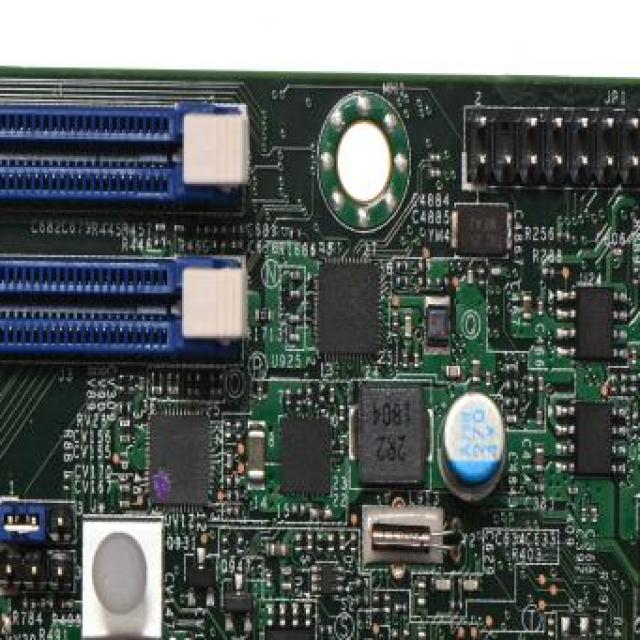IC: (148, 413, 211, 508), (317, 262, 380, 356), (280, 415, 334, 496), (574, 285, 616, 363), (572, 402, 614, 479), (263, 625, 313, 640)
capacitor: (441, 390, 509, 492), (456, 203, 509, 258), (246, 428, 266, 484), (522, 293, 534, 322), (535, 445, 546, 474), (471, 356, 482, 384), (270, 542, 288, 558), (444, 364, 462, 380), (417, 582, 427, 608), (403, 315, 413, 341), (464, 578, 481, 593), (436, 578, 452, 593), (638, 501, 640, 619), (118, 418, 132, 431), (591, 506, 599, 526), (188, 386, 201, 398), (289, 289, 302, 301), (154, 223, 167, 235), (118, 499, 132, 510), (225, 421, 233, 440), (535, 409, 543, 428), (392, 312, 400, 331), (467, 267, 475, 286), (257, 384, 265, 402), (118, 433, 130, 445), (505, 413, 517, 425), (289, 314, 301, 326), (233, 223, 245, 235), (430, 152, 442, 164), (150, 387, 163, 398), (210, 387, 223, 398), (289, 332, 302, 343), (265, 572, 272, 592), (537, 298, 544, 318), (340, 403, 347, 422), (338, 439, 345, 458), (486, 369, 493, 388), (280, 565, 292, 576), (280, 582, 292, 593), (533, 482, 544, 494), (118, 484, 130, 495), (167, 387, 179, 398), (289, 270, 301, 281), (231, 238, 242, 250), (174, 223, 186, 234), (430, 169, 442, 180), (567, 486, 579, 497), (612, 248, 624, 259), (225, 452, 232, 470), (139, 374, 146, 392), (328, 386, 335, 404), (539, 376, 546, 394), (413, 351, 420, 369), (492, 266, 503, 277), (582, 506, 588, 526), (402, 353, 409, 370), (631, 349, 638, 366), (306, 533, 312, 552), (340, 535, 346, 552), (416, 630, 426, 640), (182, 634, 191, 640), (167, 636, 176, 640)
diode: (319, 563, 335, 600), (560, 634, 590, 640)
inductor: (358, 383, 427, 486)
resistor: (255, 308, 272, 324), (236, 536, 245, 556), (632, 411, 640, 433), (315, 533, 324, 552), (221, 537, 230, 556), (319, 383, 328, 402), (118, 374, 127, 393), (214, 223, 227, 236), (197, 223, 210, 236), (118, 404, 132, 416), (542, 266, 556, 278), (632, 266, 640, 286), (295, 533, 303, 553), (285, 388, 293, 408), (154, 238, 167, 250), (214, 238, 227, 250), (227, 505, 240, 517), (289, 229, 302, 241), (210, 370, 223, 382), (188, 370, 201, 382), (167, 370, 180, 382), (150, 370, 163, 382), (62, 599, 75, 611), (41, 599, 54, 611), (321, 625, 334, 637), (356, 595, 369, 607), (356, 578, 369, 590), (394, 602, 407, 614), (451, 600, 464, 612), (507, 396, 520, 408), (507, 379, 520, 391), (396, 276, 409, 288), (227, 490, 240, 502), (507, 362, 520, 374), (396, 261, 409, 273), (479, 267, 487, 286), (610, 373, 618, 392), (372, 595, 380, 614), (328, 535, 336, 554), (235, 421, 243, 440), (128, 373, 136, 392), (297, 387, 304, 408), (438, 276, 450, 288), (558, 231, 570, 243), (527, 376, 535, 394), (595, 618, 603, 636), (631, 376, 638, 394), (351, 535, 358, 552), (390, 630, 397, 640), (233, 636, 246, 640)
transistor: (222, 591, 254, 616), (184, 565, 217, 589)
